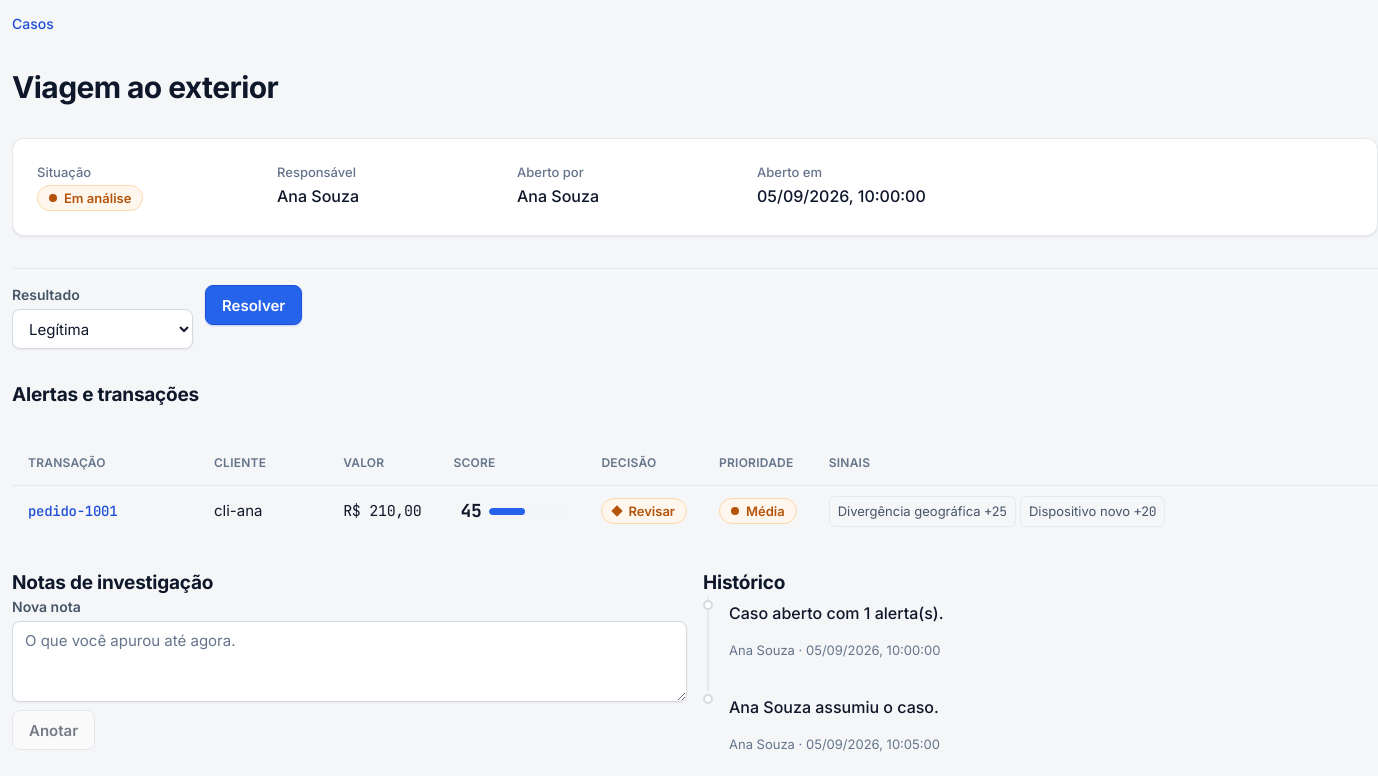
Test: workspace do caso › não deixa anotar em branco
This screenshot has width=1378, height=776.
Expected: the heading "Viagem ao exterior" is shown, [12,69,278,105]
Expected: the button "Anotar" is disabled, [12,710,95,750]
Type "Cliente confirmou." into the text box labelled "Nova nota" at (350,662), box [12,621,687,702]
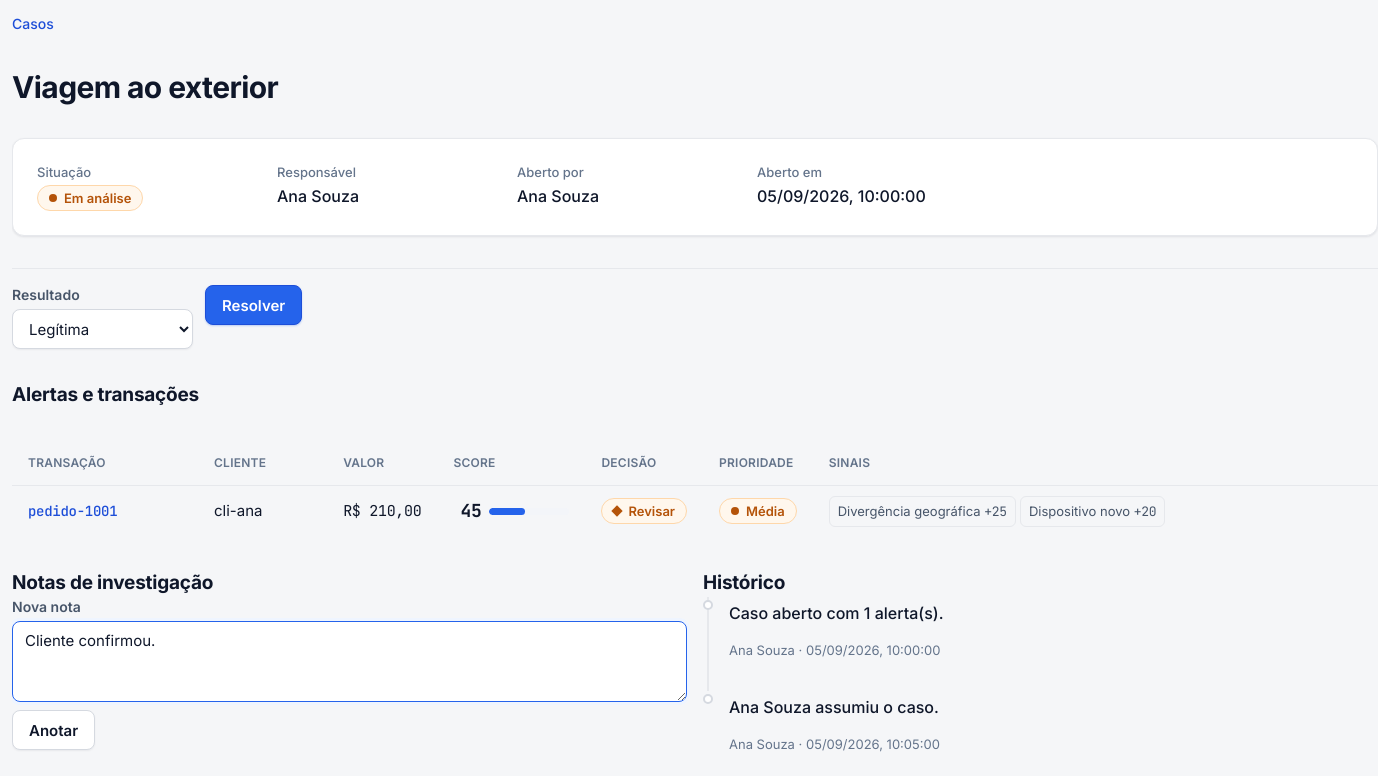
Expected: the button "Anotar" is enabled, [12,710,95,750]
